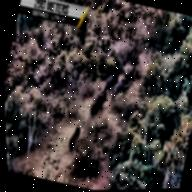boar: (84, 85, 109, 127), (112, 70, 138, 104), (98, 67, 122, 92)
